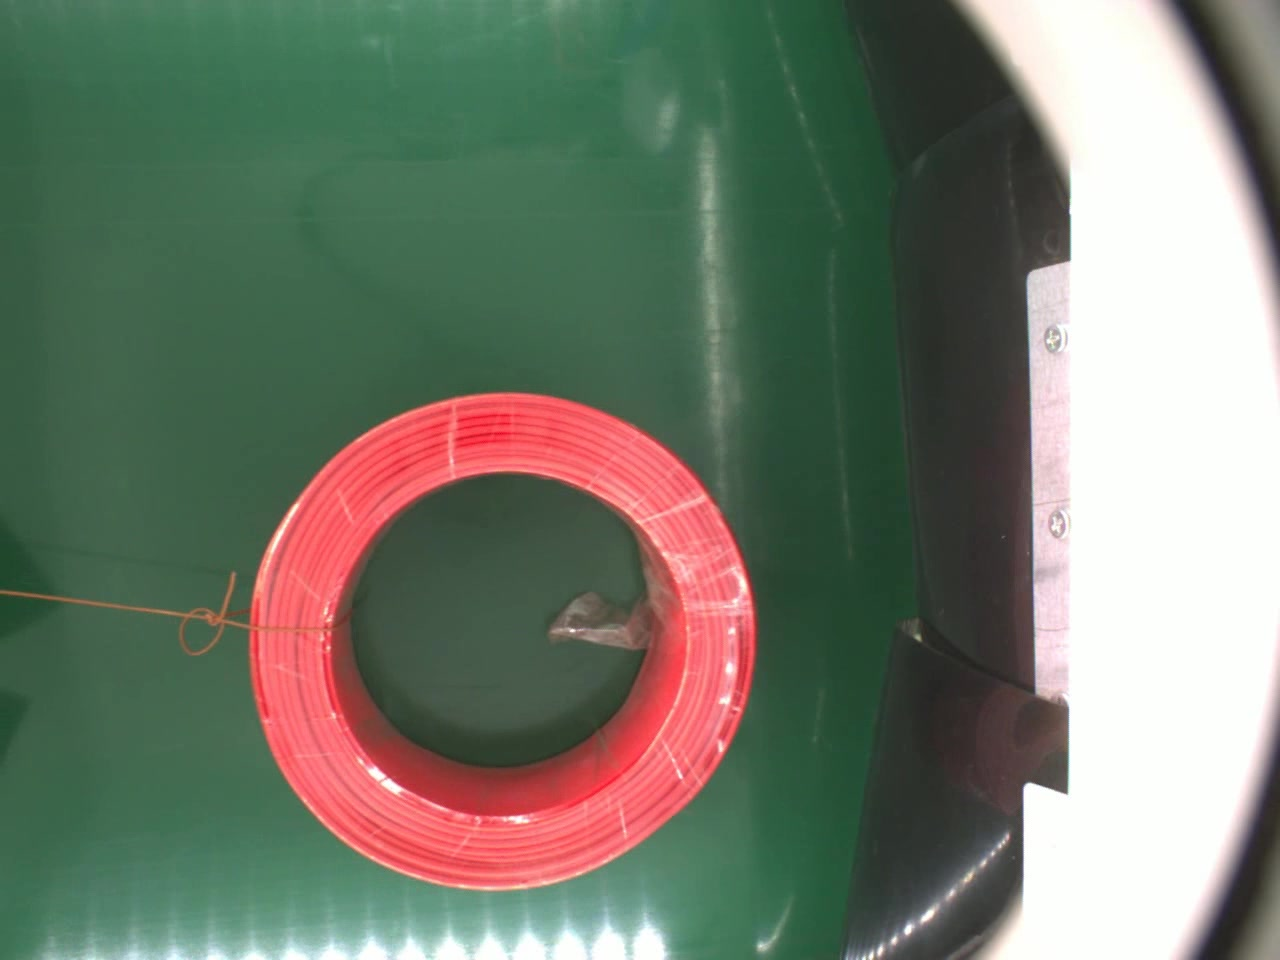red: (245, 389, 756, 893)
